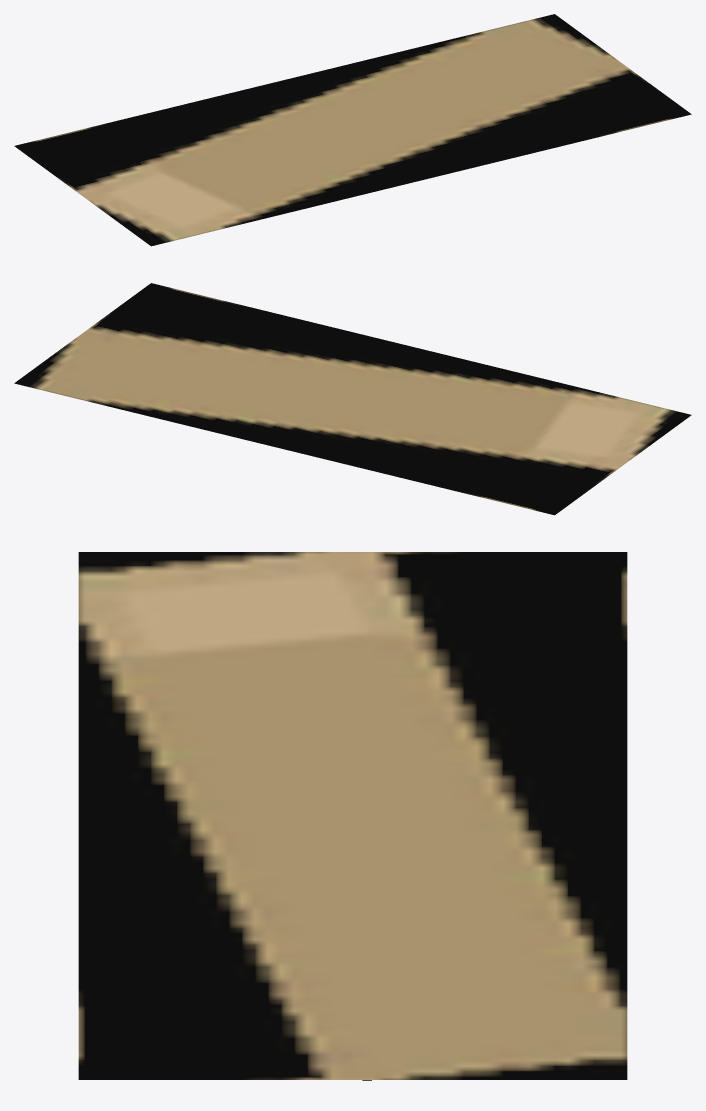
File: WoodFragment.glb
3 views of the same model, one above another, from view 1: azimuth 30°, elevation 25°; view 2: azimuth 150°, elevation 25°; view 3: azimuth 270°, elevation 25° (orthographic). The views are drawn at different scales.
Parts seen in each view (by area): view 1: Visual; view 2: Visual; view 3: Visual.
Part boxes in pixels (<box>): Visual: <box>14,14,691,246</box>; Visual: <box>14,283,691,515</box>; Visual: <box>78,552,627,1080</box>.
Bounding box in the file's own units: 1.32 × 0.02 × 0.58.
3 materials, 2 textured.
